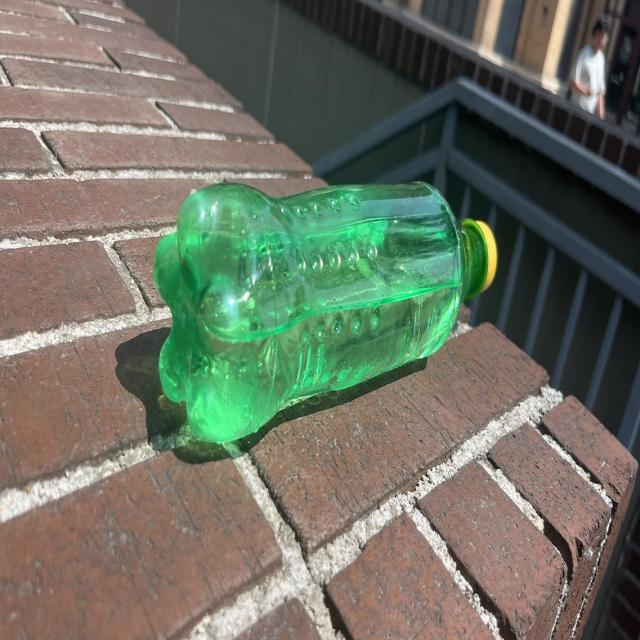medium: (154, 182, 496, 442)
